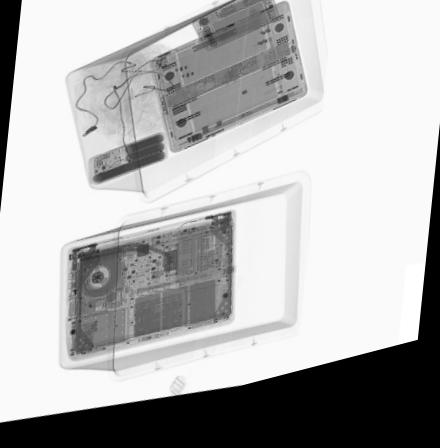Powerbank: (88, 136, 169, 189)
